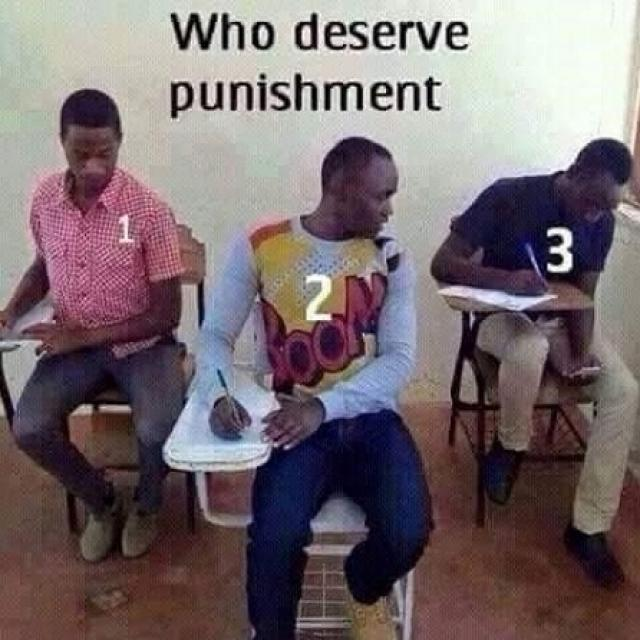cheating: (215, 132, 439, 426), (3, 79, 212, 359), (530, 320, 622, 397)
good: (422, 110, 640, 313)
